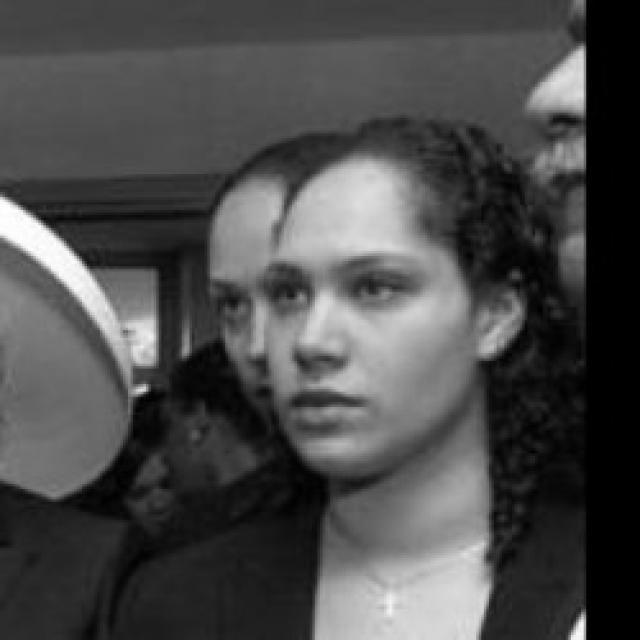real: (266, 156, 496, 488), (265, 255, 420, 334)
